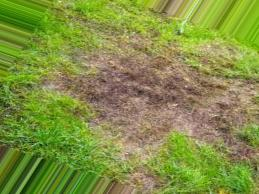patch: (88, 63, 142, 123), (145, 72, 192, 128), (191, 91, 231, 138), (124, 55, 180, 78), (121, 128, 160, 152)
